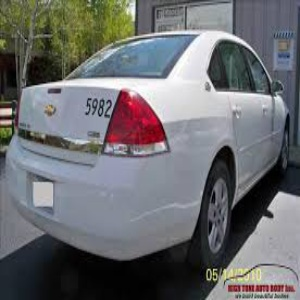bumper_scratch: (122, 188, 202, 226)
